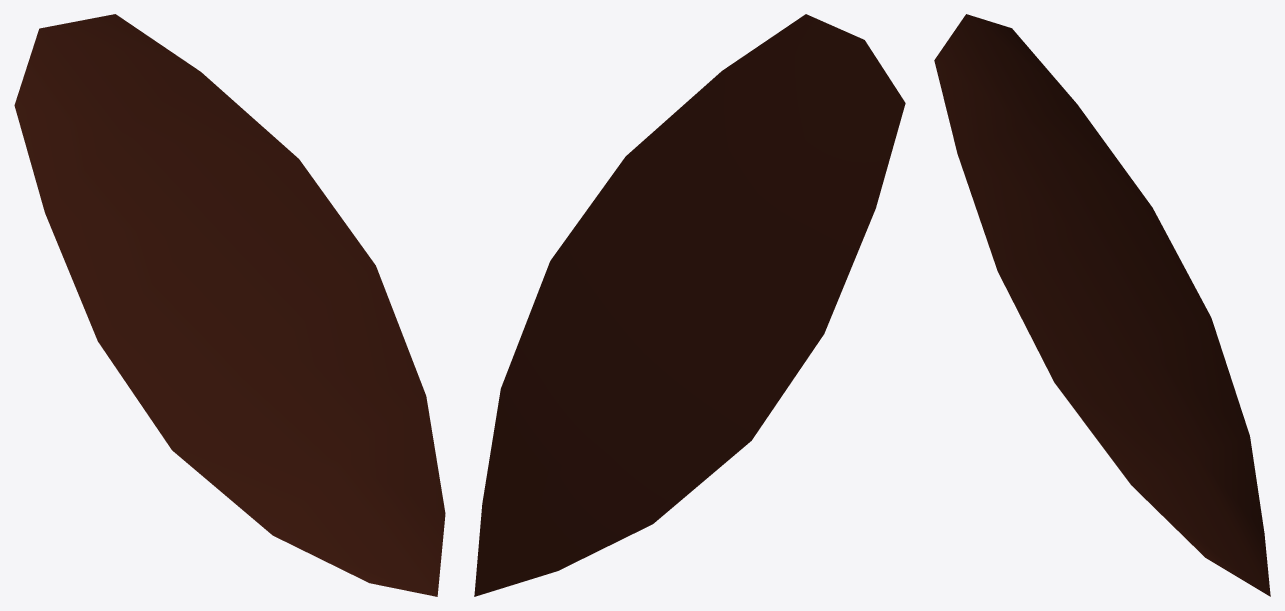
File: hen_feather_flight_tertiary_057.obj
The picture shows the model from 3 angles, left to right: view 1: azimuth 30°, elevation 25°; view 2: azimuth 150°, elevation 25°; view 3: azimuth 330°, elevation 25°; orthographic projection. The views are drawn at different scales.
Visible parts, largest first — view 1: feather_flight_tertiary_057; view 2: feather_flight_tertiary_057; view 3: feather_flight_tertiary_057.
Part boxes in pixels (box(x1,y1,x2,y2)): feather_flight_tertiary_057: box(14, 14, 445, 596); feather_flight_tertiary_057: box(474, 14, 905, 596); feather_flight_tertiary_057: box(934, 14, 1270, 596).
Bounding box in the file's own units: 0.0157 × 0.0233 × 0.000556.
